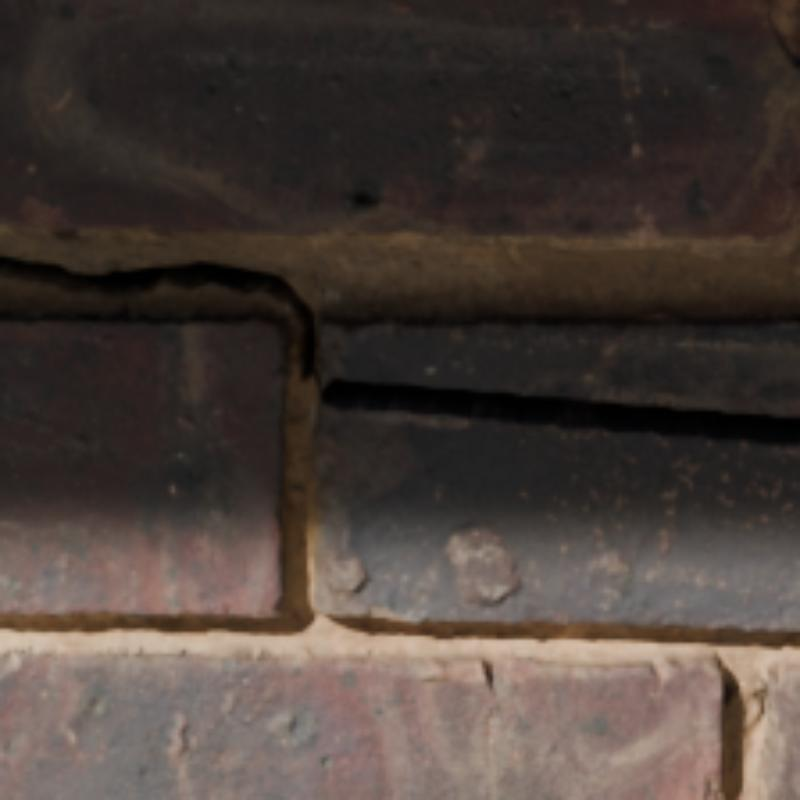crack: (0, 254, 796, 443)
